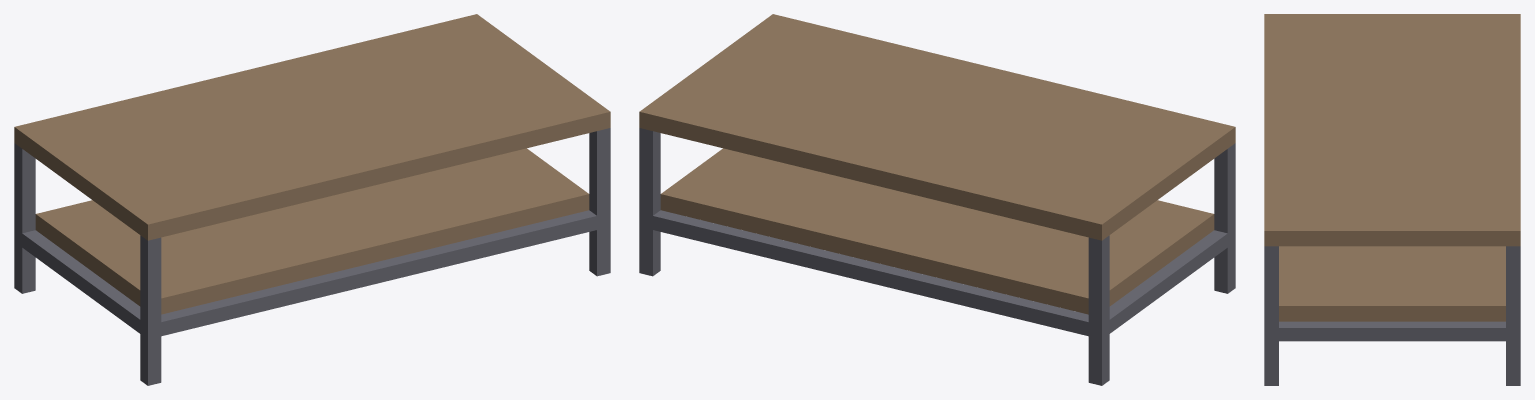
3 views of the same model, side by side, from view 1: azimuth 30°, elevation 25°; view 2: azimuth 150°, elevation 25°; view 3: azimuth 270°, elevation 25° (orthographic). The views are drawn at different scales.
Parts seen in each view (by area): view 1: Tabletop, Shelf, object 3; view 2: Tabletop, Shelf, object 3; view 3: Tabletop, Shelf, object 3.
Boxes of the visible parts, x1,y1,x2,y2 form: Tabletop: [14, 14, 610, 240]; Shelf: [35, 148, 589, 314]; object 3: [14, 128, 610, 385]; Tabletop: [639, 14, 1235, 240]; Shelf: [660, 148, 1214, 314]; object 3: [639, 128, 1235, 385]; Tabletop: [1264, 14, 1520, 246]; Shelf: [1279, 246, 1505, 321]; object 3: [1264, 246, 1520, 385].
Size of the model in its own units: 1.2 by 0.4 by 0.6.
